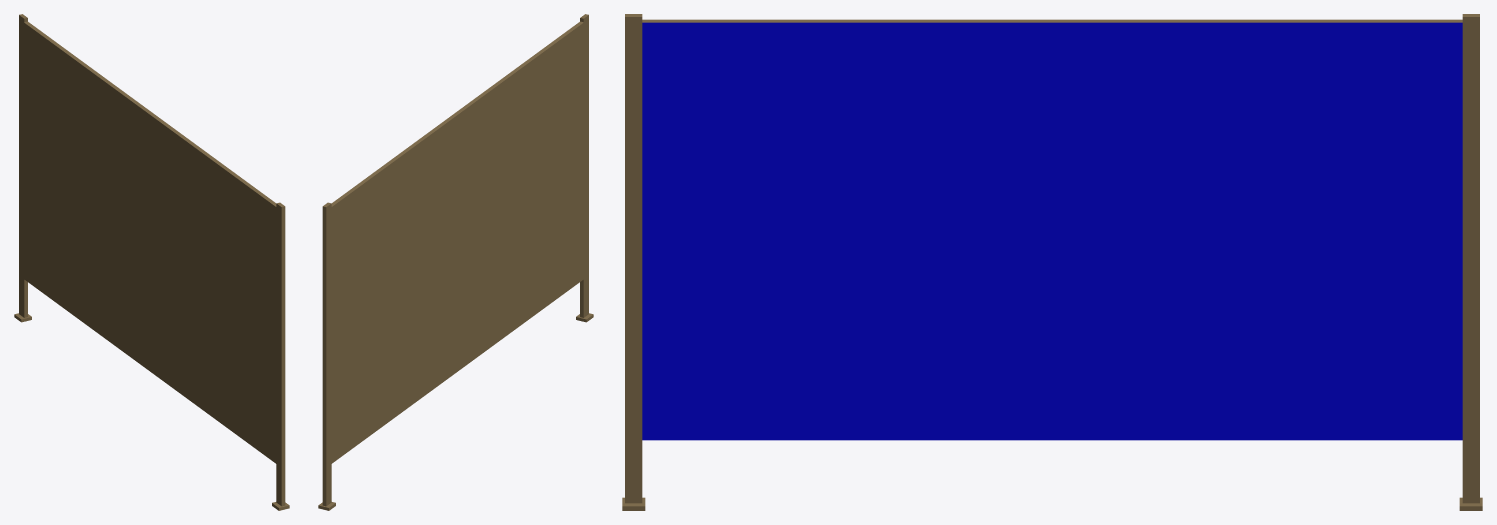
Rendered from Presentation_01.fbx.
3 views of the same model, side by side, from view 1: azimuth 30°, elevation 25°; view 2: azimuth 150°, elevation 25°; view 3: azimuth 270°, elevation 25° (orthographic). The views are drawn at different scales.
Visible parts, largest first — view 1: Stand; view 2: Stand; view 3: Screen1, Stand.
Part boxes in pixels (x1,y1,x2,y2): Stand: (14, 14, 289, 510); Stand: (318, 14, 593, 510); Screen1: (642, 22, 1462, 440); Stand: (622, 14, 1482, 510).
Size of the model in its own units: 9.19 by 248 by 393.
